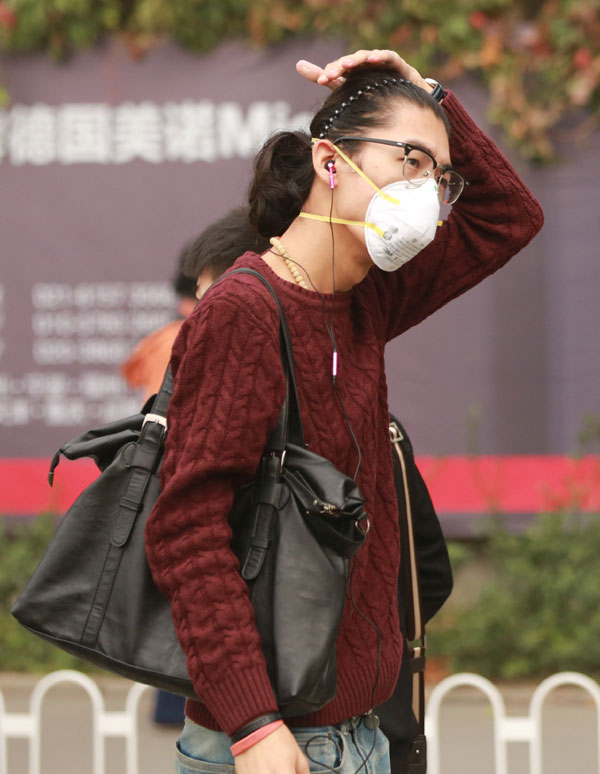face_mask: (343, 94, 456, 273)
